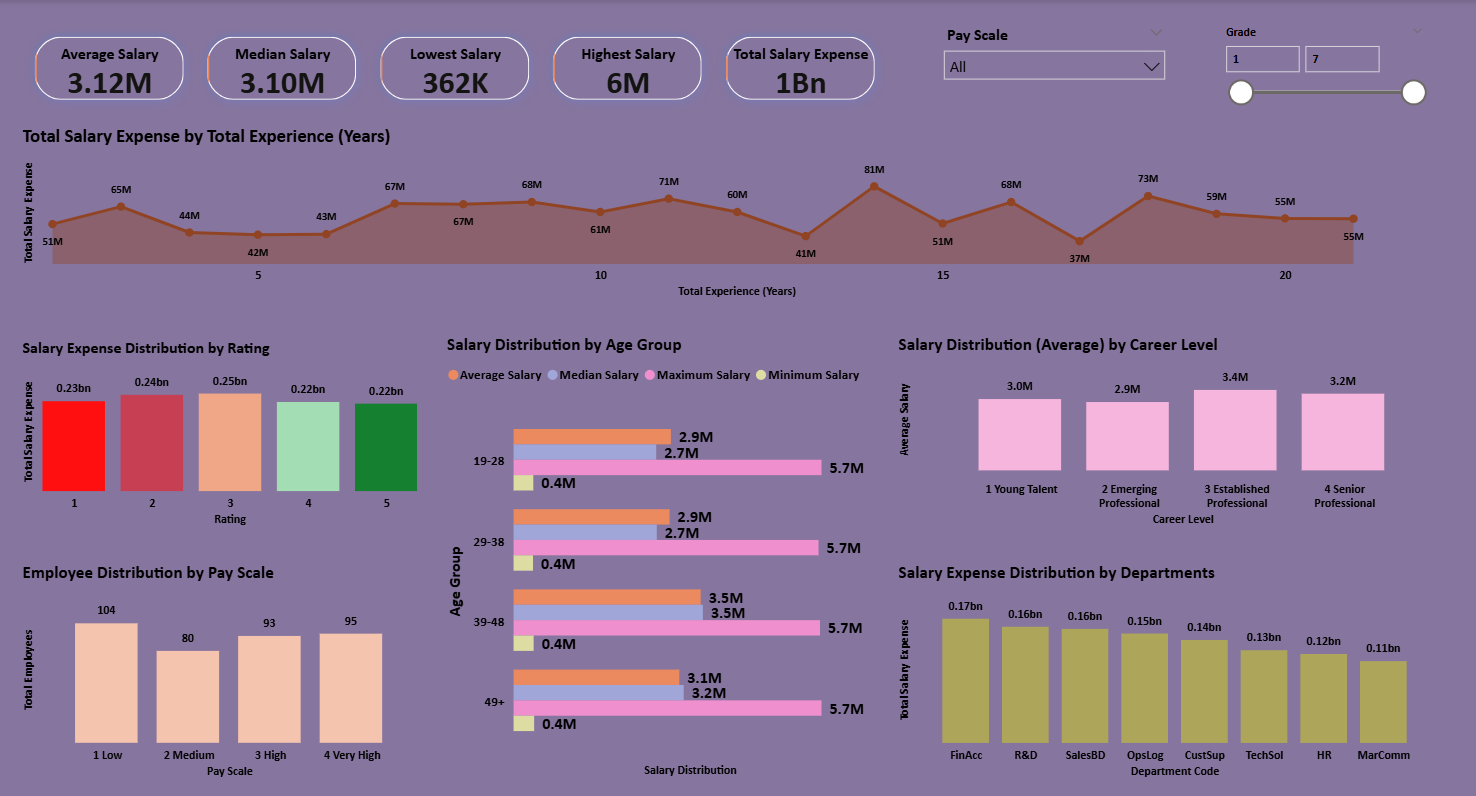

This screenshot's page, from the dashboard's own definition file:
{"tool":"powerbi","page":{"name":"Salary & Performance Dashboard","canvas":[1480,800],"ordinal":1},"visuals":[{"type":"cardVisual","fields":{"Data":["Employee Details.Average Salary","Employee Details.Median Salary","Employee Details.Minimum Salary","Employee Details.Maximum Salary","Sum(Employee Details.Salary)"]},"box":[18.8,18.8,878.2,98],"z":0},{"type":"clusteredColumnChart","title":"Salary Distribution (Average) by Career Level","fields":{"Y":["Employee Details.Average Salary"],"Category":["Employee Details.Career Level Hierarchy","Employee Details.Career Level"]},"box":[897.1,333.6,542.8,197.9],"z":4000},{"type":"clusteredBarChart","title":"Salary Distribution by Age Group","fields":{"Category":["Employee Details.Age Group"],"Y":["Employee Details.Average Salary","Employee Details.Median Salary","Employee Details.Maximum Salary","Employee Details.Minimum Salary"]},"box":[445,333.7,430.7,449.7],"z":5000},{"type":"clusteredColumnChart","title":"Salary Expense Distribution by Rating","fields":{"Category":["Employee Details.Rating"],"Y":["Sum(Employee Details.Salary)"]},"box":[18.8,337.3,405.2,194.1],"z":6000},{"type":"clusteredColumnChart","title":"Salary Expense Distribution by Departments","fields":{"Category":["Employee Details.Department Code"],"Y":["Sum(Employee Details.Salary)"]},"box":[896.3,561,543.5,222.5],"z":7000},{"type":"areaChart","fields":{"Category":["Employee Details.Total Experience (Years)"],"Y":["Sum(Employee Details.Salary)"]},"box":[18.8,124.4,1421,179],"z":10000},{"type":"slicer","fields":{"Values":["Employee Details.Pay Scale"]},"box":[936.7,19.3,241.6,98],"z":11000},{"type":"slicer","fields":{"Values":["Employee Details.Grade"]},"box":[1216.8,19.3,222.4,98],"z":12000},{"type":"clusteredColumnChart","title":"Employee Distribution by Pay Scale","fields":{"Category":["Employee Details.Pay Scale Order","Employee Details.Pay Scale"],"Y":["Employee Details.Total Employees"]},"box":[18.8,561.6,405.2,222.4],"z":13000}]}

Visuals, with their boxes in screenshot pixels (x1, y1, x2, y2), scaled from the page's 1480x800 canvas onto the 1476x796 screenshot:
cardVisual - Employee Details.Average Salary x Employee Details.Median Salary: [19,19,895,116]
"Salary Distribution (Average) by Career Level" clusteredColumnChart: [895,332,1436,529]
"Salary Distribution by Age Group" clusteredBarChart: [444,332,873,779]
"Salary Expense Distribution by Rating" clusteredColumnChart: [19,336,423,529]
"Salary Expense Distribution by Departments" clusteredColumnChart: [894,558,1436,780]
areaChart - Employee Details.Total Experience (Years) x Sum(Employee Details.Salary): [19,124,1436,302]
slicer - Employee Details.Pay Scale: [934,19,1175,117]
slicer - Employee Details.Grade: [1214,19,1435,117]
"Employee Distribution by Pay Scale" clusteredColumnChart: [19,559,423,780]
